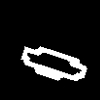chain: (22, 46, 86, 80)
